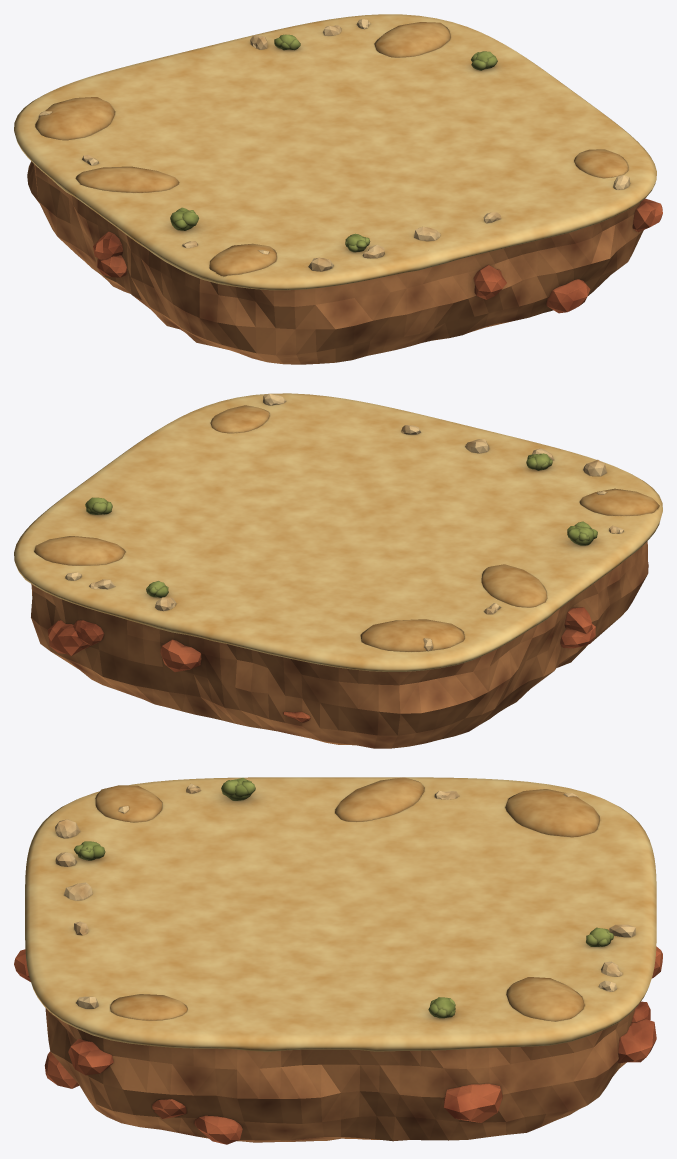
The model's file is GizaPyramids_Island.fbx.
3 renders of one model, top to bottom at view 1: azimuth 30°, elevation 25°; view 2: azimuth 150°, elevation 25°; view 3: azimuth 270°, elevation 25°, orthographic. The views are drawn at different scales.
Visible parts, largest first — view 1: Island_Top, Island_Body; view 2: Island_Top, Island_Body; view 3: Island_Top, Island_Body.
Boxes of the visible parts, <box> form: Island_Top: <box>14,14,656,290</box>; Island_Body: <box>27,161,662,364</box>; Island_Top: <box>14,393,662,671</box>; Island_Body: <box>31,541,648,748</box>; Island_Top: <box>25,777,656,1051</box>; Island_Body: <box>14,946,662,1144</box>.
Size of the model in its own units: 16.68 by 5.51 by 16.51.
1 material, 1 textured.
